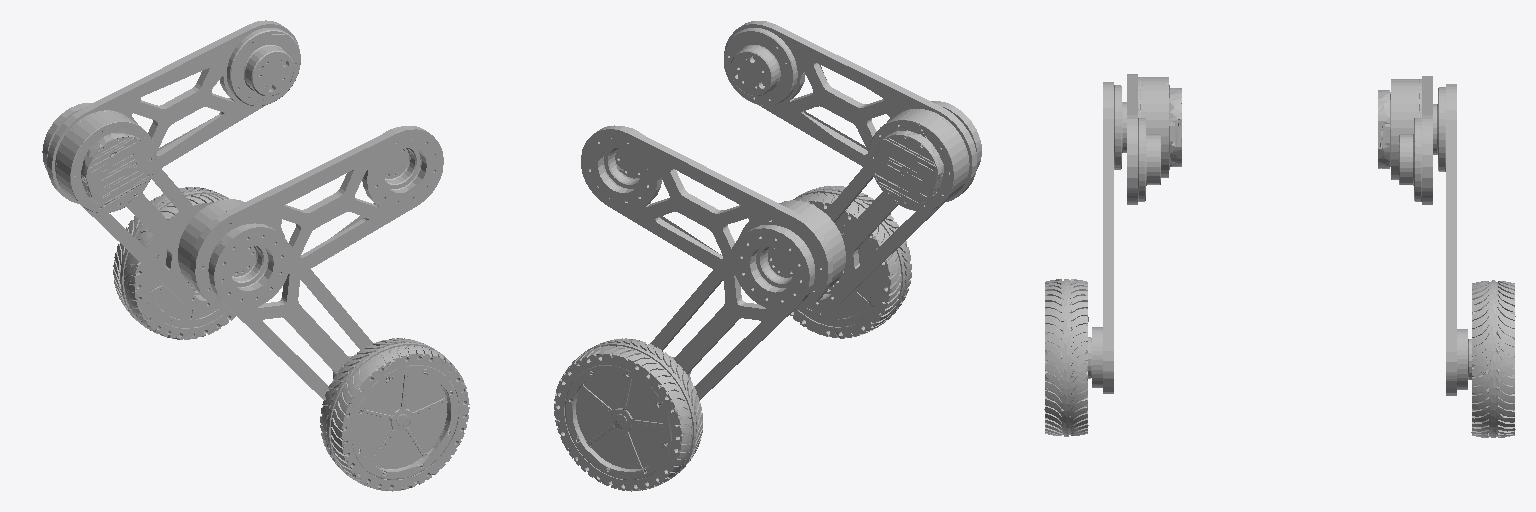
The robot description file, URDF, robot "wheeled_leg":
<?xml version="1.0" encoding="utf-8"?>
<!-- This URDF was automatically created by SolidWorks to URDF Exporter! Originally created by Stephen Brawner (brawner@gmail.com) 
     Commit Version: 1.6.0-4-g7f85cfe  Build Version: 1.6.7995.38578
     For more information, please see http://wiki.ros.org/sw_urdf_exporter -->
<robot
  name="wheeled_leg">
  <mujoco>
    <compiler 
    meshdir="" 
    balanceinertia="true" 
    discardvisual="false" />
  </mujoco>

  <link name="world">
  </link>
  <joint name="floating_base_joint" type="floating">
     <parent link="world"/>
     <child link="base_link"/>
  </joint>
  <link
    name="base_link">
    <inertial>
      <origin
        xyz="-0.00013149 -2.8449E-08 0.027402"
        rpy="0 0 0" />
      <mass
        value="8.1112" />
      <inertia
        ixx="0.089685"
        ixy="0.0001528"
        ixz="0.0002297"
        iyy="0.1209"
        iyz="0.0006387"
        izz="0.13279" />
    </inertial>
    <visual>
      <origin
        xyz="0 0 0"
        rpy="0 0 0" />
      <geometry>
        <mesh
          filename="package://wheeled_leg/meshes/base_link.STL" />
      </geometry>
      <material
        name="">
        <color
          rgba="0.75294 0.75294 0.75294 1" />
      </material>
    </visual>
    <collision>
      <origin
        xyz="0 0 0"
        rpy="0 0 0" />
      <geometry>
        <mesh
          filename="package://wheeled_leg/meshes/base_link.STL" />
      </geometry>
    </collision>
  </link>
  <link
    name="left_hip_link">
    <inertial>
      <origin
        xyz="-0.10176 0.030151 0.027303"
        rpy="0 0 0" />
      <mass
        value="2.2541" />
      <inertia
        ixx="0.023124"
        ixy="-0.0003697"
        ixz="-0.001413"
        iyy="0.020231"
        iyz="-0.0051775"
        izz="0.0041375" />
    </inertial>
    <visual>
      <origin
        xyz="0 0 0"
        rpy="0 0 0" />
      <geometry>
        <mesh
          filename="package://wheeled_leg/meshes/left_hip_link.STL" />
      </geometry>
      <material
        name="">
        <color
          rgba="0.75294 0.75294 0.75294 1" />
      </material>
    </visual>
    <collision>
      <origin
        xyz="0 0 0"
        rpy="0 0 0" />
      <geometry>
        <mesh
          filename="package://wheeled_leg/meshes/left_hip_link.STL" />
      </geometry>
    </collision>
  </link>
  <joint
    name="HipL"
    type="continuous">
    <origin
      xyz="0.0082629 0.14034 0.059008"
      rpy="-1.5708 0 0" />
    <parent
      link="base_link" />
    <child
      link="left_hip_link" />
    <axis
      xyz="0 0 -1" />
    <limit
      lower="-3.14"
      upper="3.14"
      effort="150"
      velocity="50" />
  </joint>
  <link
    name="left_knee_link">
    <inertial>
      <origin
        xyz="0.064051 0.079816 0.030408"
        rpy="0 0 0" />
      <mass
        value="0.8433" />
      <inertia
        ixx="0.011584"
        ixy="0.0004631"
        ixz="-0.0003716"
        iyy="0.0047851"
        iyz="0.0049762"
        izz="0.0069929" />
    </inertial>
    <visual>
      <origin
        xyz="0 0 0"
        rpy="0 0 0" />
      <geometry>
        <mesh
          filename="package://wheeled_leg/meshes/left_knee_link.STL" />
      </geometry>
      <material
        name="">
        <color
          rgba="0.75294 0.75294 0.75294 1" />
      </material>
    </visual>
    <collision>
      <origin
        xyz="0 0 0"
        rpy="0 0 0" />
      <geometry>
        <mesh
          filename="package://wheeled_leg/meshes/left_knee_link.STL" />
      </geometry>
    </collision>
  </link>
  <joint
    name="KneeL"
    type="continuous">
    <origin
      xyz="-0.2302 0.067889 0.0285"
      rpy="0 0 0" />
    <parent
      link="left_hip_link" />
    <child
      link="left_knee_link" />
    <axis
      xyz="0 0 -1" />
    <limit
      lower="-3.14"
      upper="3.14"
      effort="150"
      velocity="50" />
  </joint>
  <link
    name="left_wheel_link">
    <inertial>
      <origin
        xyz="-4.8422E-05 -3.1902E-05 0.02755"
        rpy="0 0 0" />
      <mass
        value="1.86" />
      <inertia
        ixx="0.0080683"
        ixy="3E-07"
        ixz="-2E-07"
        iyy="0.004371"
        iyz="-9E-07"
        izz="0.0043701" />
    </inertial>
    <visual>
      <origin
        xyz="0 0 0"
        rpy="0 0 0" />
      <geometry>
        <mesh
          filename="package://wheeled_leg/meshes/left_wheel_link.STL" />
      </geometry>
      <material
        name="">
        <color
          rgba="0.75294 0.75294 0.75294 1" />
      </material>
    </visual>
    <collision>
      <origin
        xyz="0 0 0"
        rpy="0 0 0" />
      <geometry>
        <mesh
          filename="package://wheeled_leg/meshes/left_wheel_link.STL" />
      </geometry>
    </collision>
  </link>
  <joint
    name="HubL"
    type="continuous">
    <origin
      xyz="0.17527 0.21842 0.054"
      rpy="0 0 0" />
    <parent
      link="left_knee_link" />
    <child
      link="left_wheel_link" />
    <axis
      xyz="0 0 -1" />
    <limit
      effort="17"
      velocity="115" />
  </joint>
  <link
    name="right_hip_link">
    <inertial>
      <origin
        xyz="-0.10213 -0.028901 0.027303"
        rpy="0 0 0" />
      <mass
        value="2.2541" />
      <inertia
        ixx="0.0231242"
        ixy="0.0004427"
        ixz="0.0013918"
        iyy="0.0203121"
        iyz="-0.0050495"
        izz="0.0040566" />
    </inertial>
    <visual>
      <origin
        xyz="0 0 0"
        rpy="0 0 0" />
      <geometry>
        <mesh
          filename="package://wheeled_leg/meshes/right_hip_link.STL" />
      </geometry>
      <material
        name="">
        <color
          rgba="0.75294 0.75294 0.75294 1" />
      </material>
    </visual>
    <collision>
      <origin
        xyz="0 0 0"
        rpy="0 0 0" />
      <geometry>
        <mesh
          filename="package://wheeled_leg/meshes/right_hip_link.STL" />
      </geometry>
    </collision>
  </link>
  <joint
    name="HipR"
    type="continuous">
    <origin
      xyz="0.0082629 -0.14066 0.059008"
      rpy="1.5708 0 0" />
    <parent
      link="base_link" />
    <child
      link="right_hip_link" />
    <axis
      xyz="0 0 -1" />
    <limit
      lower="-3.14"
      upper="3.14"
      effort="150"
      velocity="50" />
  </joint>
  <link
    name="right_knee_link">
    <inertial>
      <origin
        xyz="0.063695 -0.080101 0.030408"
        rpy="0 0 0" />
      <mass
        value="0.8433" />
      <inertia
        ixx="0.011584"
        ixy="-0.0004647"
        ixz="0.0003695"
        iyy="0.0047408"
        iyz="0.0049662"
        izz="0.0070371" />
    </inertial>
    <visual>
      <origin
        xyz="0 0 0"
        rpy="0 0 0" />
      <geometry>
        <mesh
          filename="package://wheeled_leg/meshes/right_knee_link.STL" />
      </geometry>
      <material
        name="">
        <color
          rgba="0.75294 0.75294 0.75294 1" />
      </material>
    </visual>
    <collision>
      <origin
        xyz="0 0 0"
        rpy="0 0 0" />
      <geometry>
        <mesh
          filename="package://wheeled_leg/meshes/right_knee_link.STL" />
      </geometry>
    </collision>
  </link>
  <joint
    name="KneeR"
    type="continuous">
    <origin
      xyz="-0.23085 -0.065642 0.0285"
      rpy="0 0 0" />
    <parent
      link="right_hip_link" />
    <child
      link="right_knee_link" />
    <axis
      xyz="0 0 -1" />
    <limit
      lower="-3.14"
      upper="3.14"
      effort="150"
      velocity="50" />
  </joint>
  <link
    name="right_wheel_link">
    <inertial>
      <origin
        xyz="-2.0417E-05 5.4273E-05 0.02755"
        rpy="0 0 0" />
      <mass
        value="1.86" />
      <inertia
        ixx="0.0080683"
        ixy="-2E-07"
        ixz="3E-07"
        iyy="0.0043705"
        iyz="-1E-06"
        izz="0.0043705" />
    </inertial>
    <visual>
      <origin
        xyz="0 0 0"
        rpy="0 0 0" />
      <geometry>
        <mesh
          filename="package://wheeled_leg/meshes/right_wheel_link.STL" />
      </geometry>
      <material
        name="">
        <color
          rgba="0.75294 0.75294 0.75294 1" />
      </material>
    </visual>
    <collision>
      <origin
        xyz="0 0 0"
        rpy="0 0 0" />
      <geometry>
        <mesh
          filename="package://wheeled_leg/meshes/right_wheel_link.STL" />
      </geometry>
    </collision>
  </link>
  <joint
    name="HubR"
    type="continuous">
    <origin
      xyz="0.1743 -0.21919 0.054"
      rpy="0 0 0" />
    <parent
      link="right_knee_link" />
    <child
      link="right_wheel_link" />
    <axis
      xyz="0 0 1" />
    <limit
      effort="17"
      velocity="115" />
  </joint>
</robot>

--- What the picture shows (computed from the rendered views, not written in the file) ---
3 views of the same robot in one strip: view 1: azimuth 30°, elevation 25°; view 2: azimuth 150°, elevation 25°; view 3: azimuth 270°, elevation 25° (orthographic).
Model wheeled_leg with 8 links and 7 joints (6 continuous, 1 floating), rooted at world, posed all joints at 0.
Links seen in each view (by area): view 1: left_hip_link, right_wheel_link, right_hip_link, right_knee_link, left_wheel_link, left_knee_link; view 2: right_hip_link, left_wheel_link, left_hip_link, left_knee_link, right_wheel_link, right_knee_link; view 3: right_wheel_link, left_wheel_link, right_hip_link, left_hip_link, left_knee_link, right_knee_link.
Link boxes in pixels (left/top/right/bottom): left_hip_link: left=47, top=20, right=300, bottom=212; right_wheel_link: left=320, top=338, right=469, bottom=491; right_hip_link: left=178, top=126, right=443, bottom=307; right_knee_link: left=208, top=223, right=373, bottom=399; left_wheel_link: left=113, top=187, right=235, bottom=339; left_knee_link: left=42, top=103, right=220, bottom=312; right_hip_link: left=724, top=21, right=976, bottom=210; left_wheel_link: left=554, top=338, right=702, bottom=491; left_hip_link: left=581, top=125, right=845, bottom=309; left_knee_link: left=650, top=225, right=814, bottom=400; right_wheel_link: left=790, top=186, right=911, bottom=338; right_knee_link: left=806, top=101, right=981, bottom=311; right_wheel_link: left=1044, top=279, right=1091, bottom=436; left_wheel_link: left=1468, top=280, right=1515, bottom=437; right_hip_link: left=1127, top=74, right=1181, bottom=204; left_hip_link: left=1378, top=76, right=1432, bottom=204; left_knee_link: left=1433, top=84, right=1467, bottom=395; right_knee_link: left=1092, top=82, right=1126, bottom=393.
Size in the robot's own frame: 0.3488 by 0.5574 by 0.4337 metres.
6 mesh visuals loaded from 7 distinct referenced files (6 binary STL); not drawn: 1 (reference not matched to a file when rendering).
